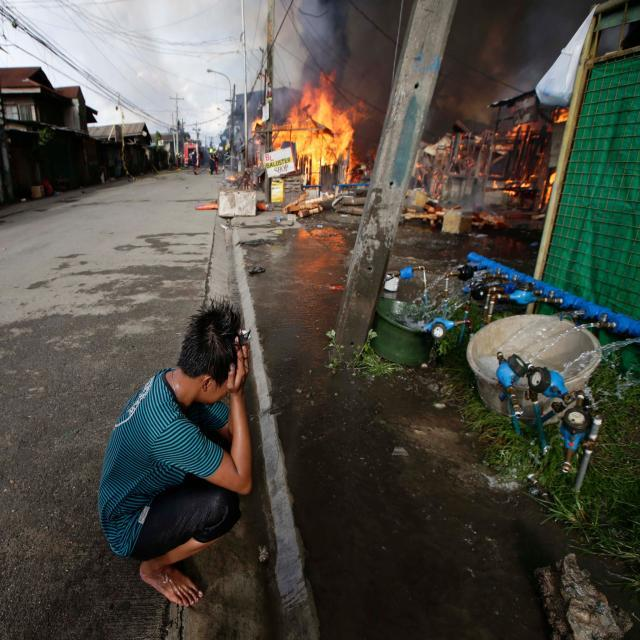Fire: (260, 74, 366, 198)
Smoke: (298, 0, 408, 136), (452, 0, 530, 87)
